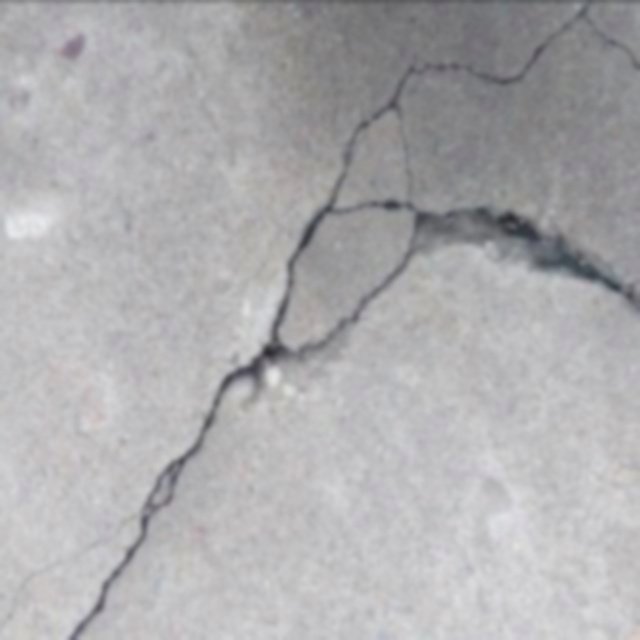SurfaceCrack: (58, 0, 640, 640)
